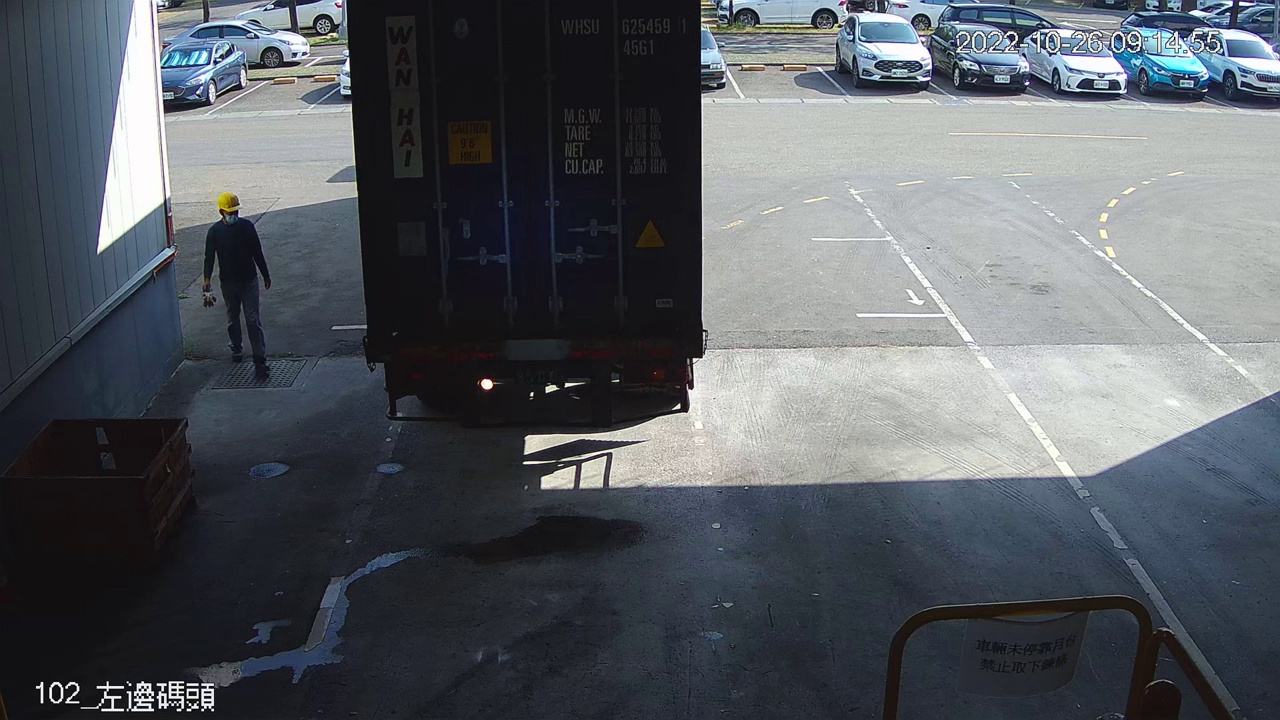container: (555, 8, 692, 64)
